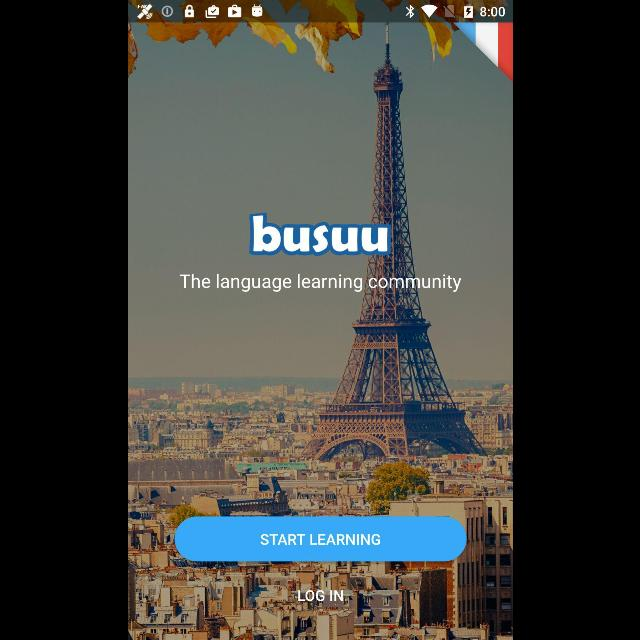backgroundimage: (128, 22, 512, 640)
image: (248, 213, 390, 257)
text: (179, 273, 461, 293), (298, 590, 342, 602)
textbutton: (174, 517, 466, 561)
uppertaskbar: (128, 1, 512, 23)
